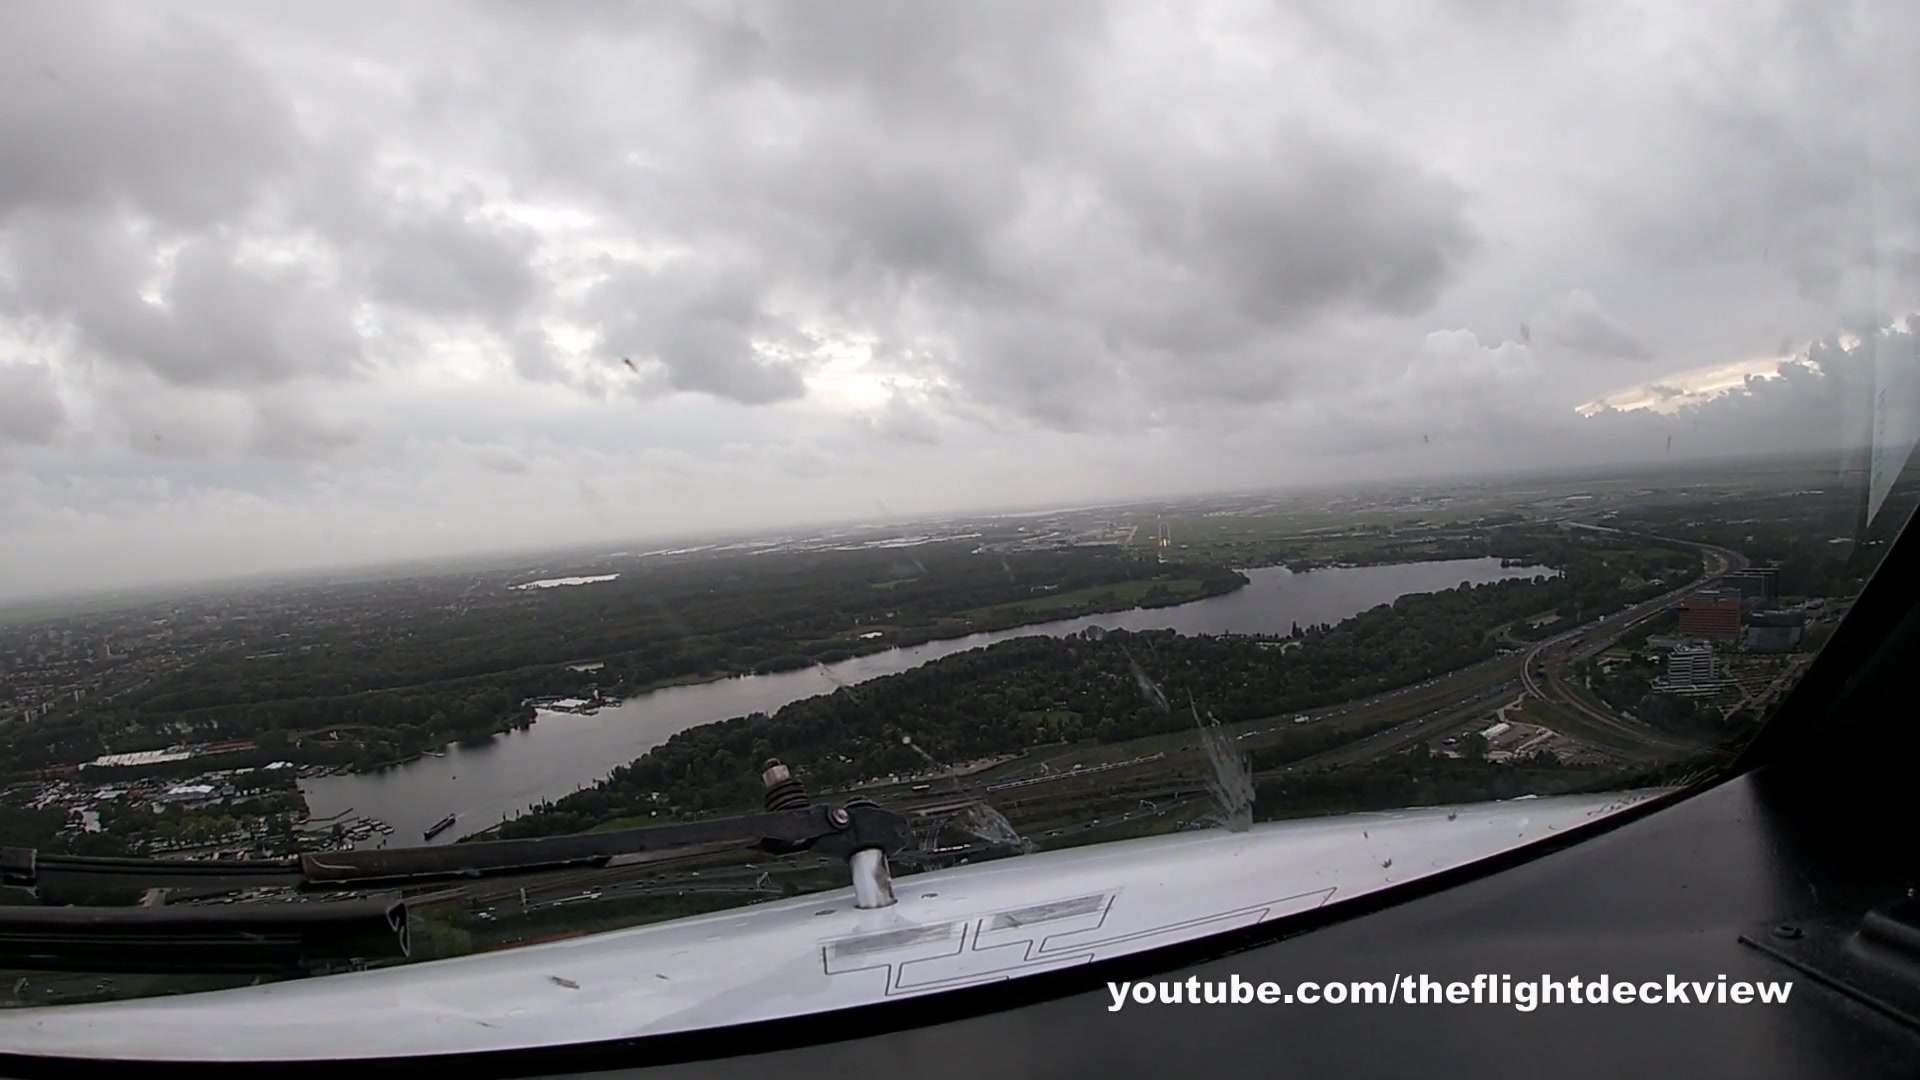runway: (1156, 520, 1172, 551)
